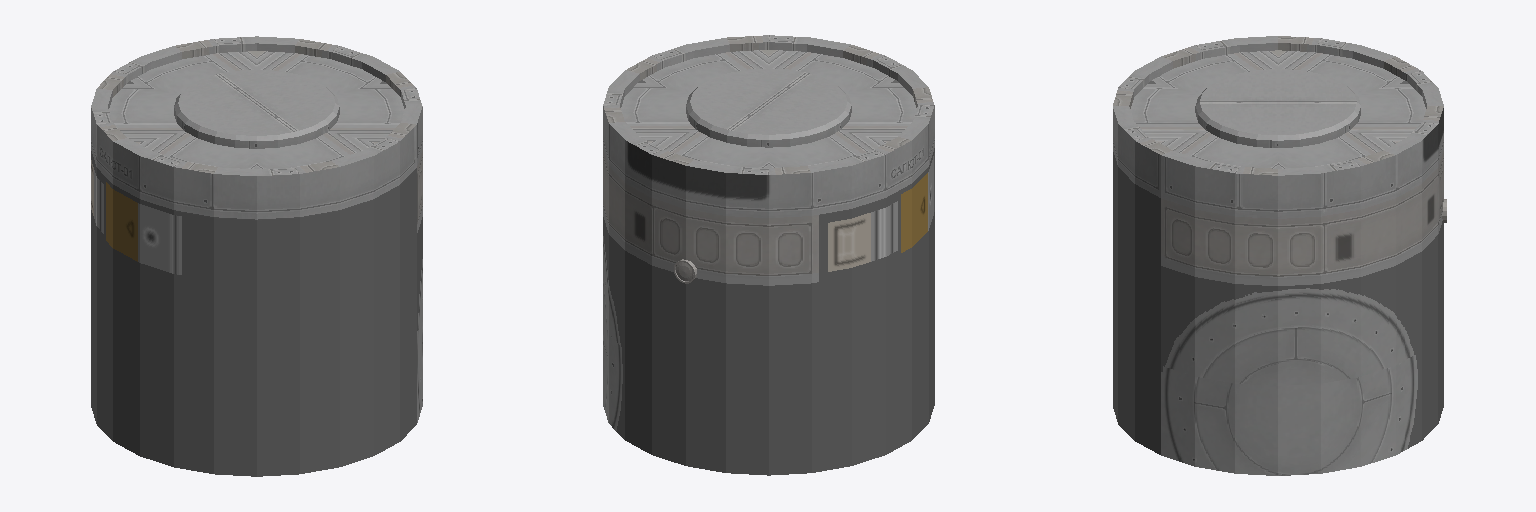
3 views of the same model, side by side, from view 1: azimuth 30°, elevation 25°; view 2: azimuth 150°, elevation 25°; view 3: azimuth 270°, elevation 25° (orthographic).
Visible parts, largest first — view 1: vega_crew_s2_1_1; view 2: vega_crew_s2_1_1; view 3: vega_crew_s2_1_1.
Part boxes in pixels (x1,y1,x2,y2): vega_crew_s2_1_1: (91, 36, 422, 476); vega_crew_s2_1_1: (603, 35, 934, 475); vega_crew_s2_1_1: (1113, 36, 1446, 475).
Bounding box in the file's own units: 2.5 × 2.56 × 2.52.
Materials: 2 (1 with a texture image).